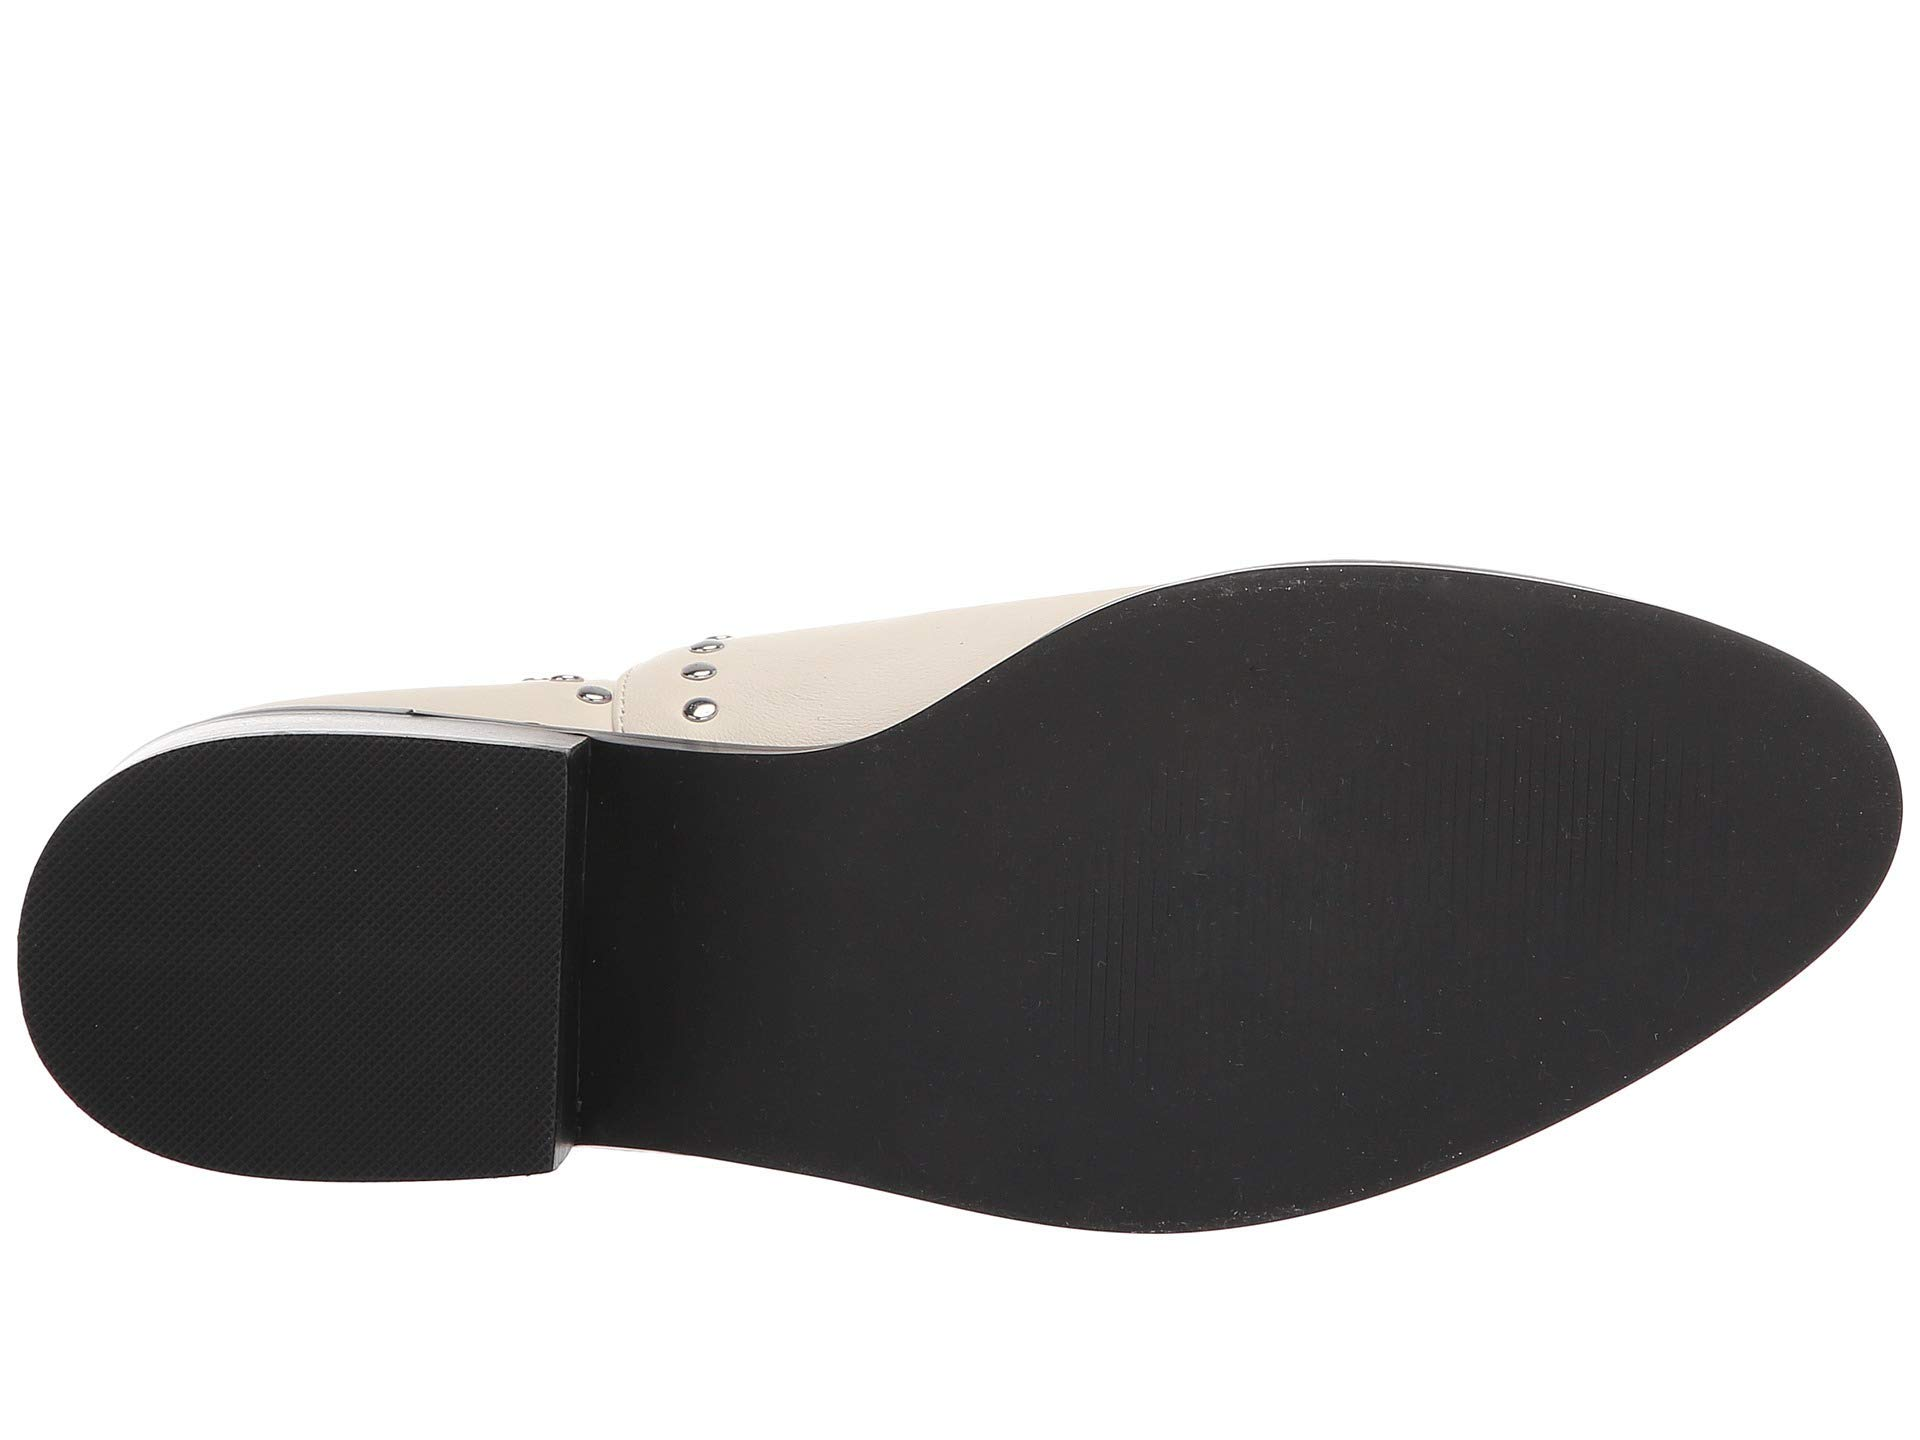line: (1281, 628, 1689, 995)
quad: (115, 787, 522, 1131)
